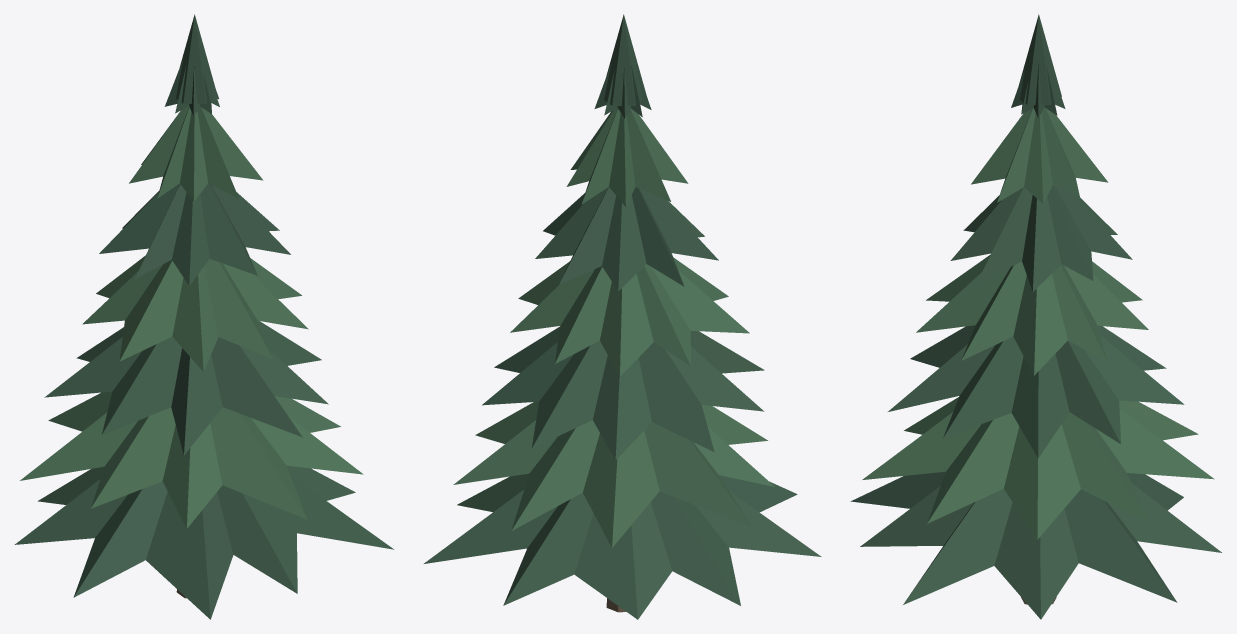
File: v_tree_spruce.glb
3 views of the same model, side by side, from view 1: azimuth 30°, elevation 25°; view 2: azimuth 150°, elevation 25°; view 3: azimuth 270°, elevation 25° (orthographic). The views are drawn at different scales.
Parts seen in each view (by area): view 1: Spruce; view 2: Spruce; view 3: Spruce.
Boxes of the visible parts, box(x1,y1,x2,y2) form: Spruce: box(14, 14, 393, 619); Spruce: box(424, 14, 821, 619); Spruce: box(850, 14, 1221, 619).
Size of what is drawn, in the model's own units: 4.52 by 7.8 by 4.5.
